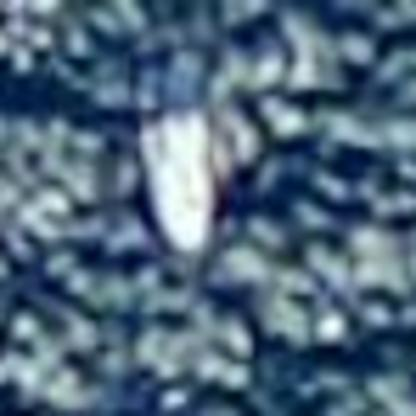ship: (127, 97, 236, 258)
